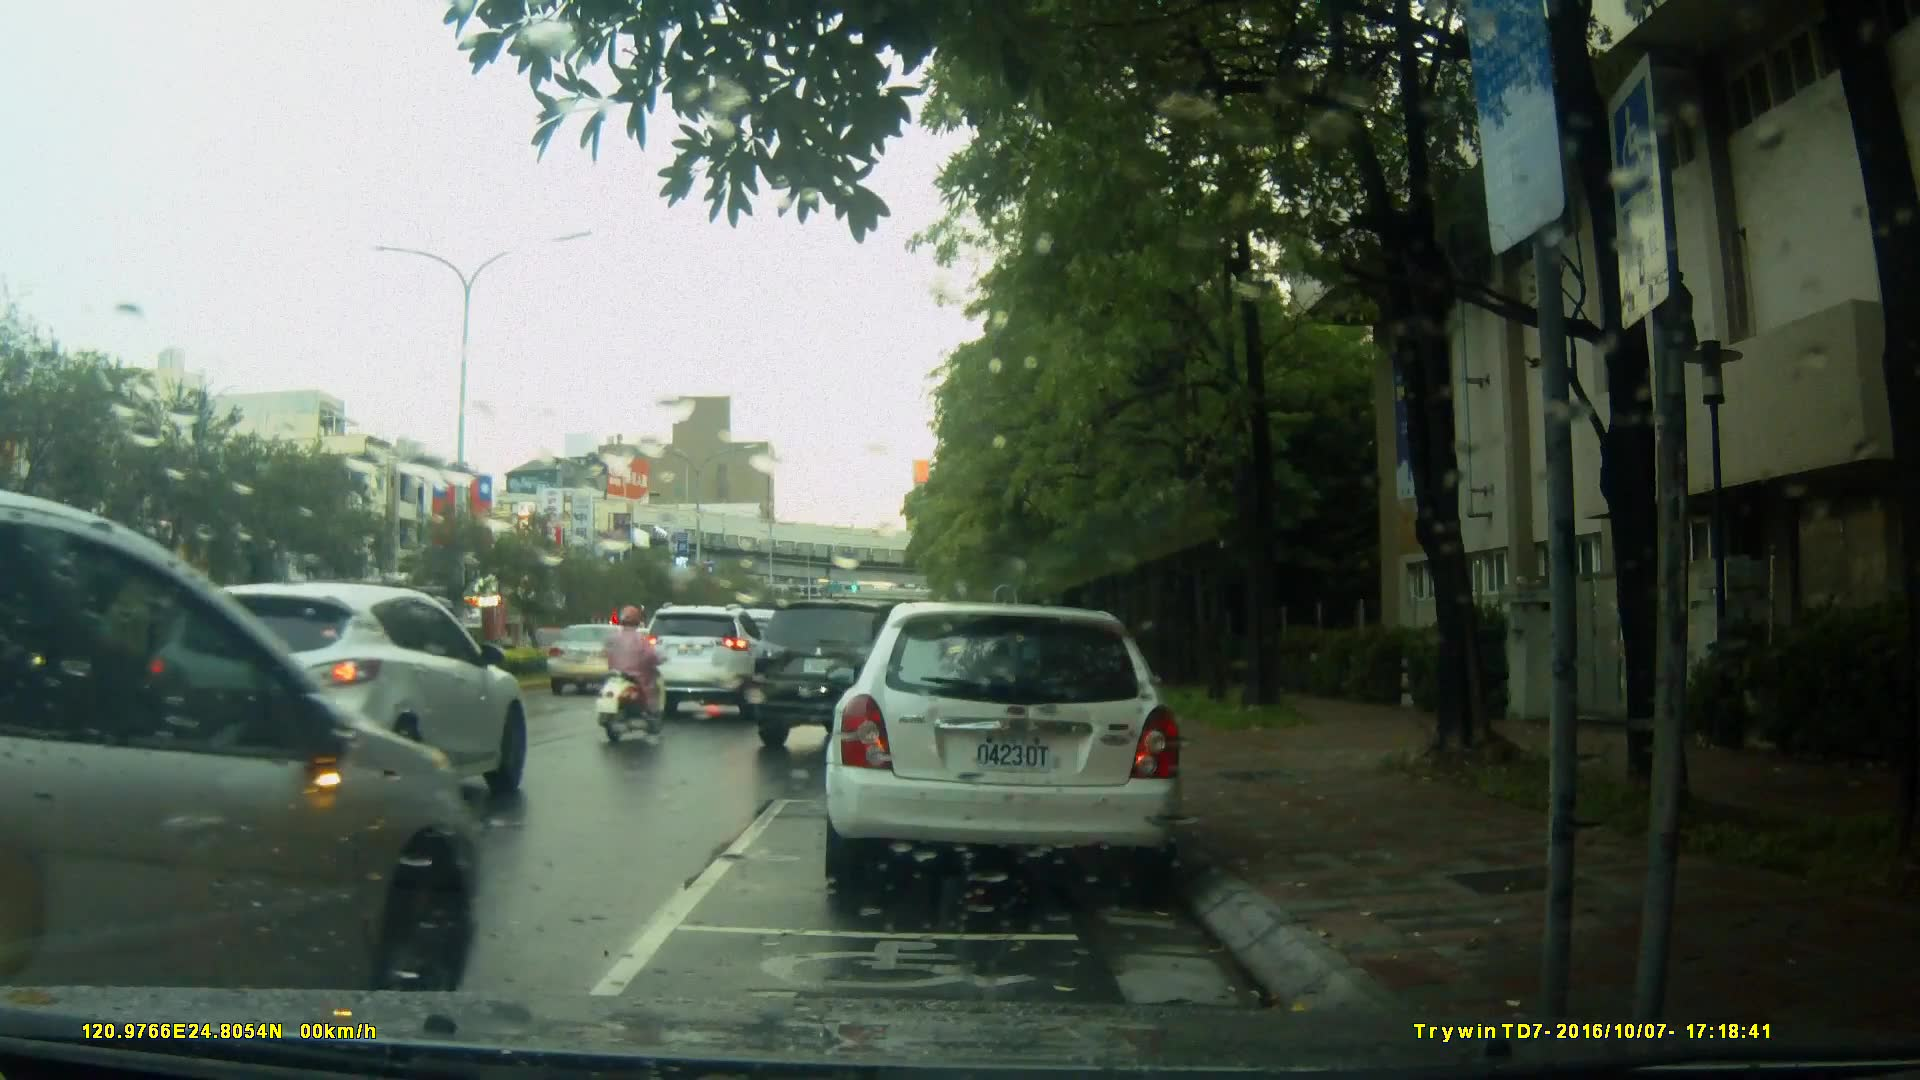rider: (600, 603, 672, 750)
vehicle: (1, 488, 487, 992), (820, 602, 1188, 898), (137, 580, 531, 815), (746, 599, 978, 755), (634, 605, 778, 722), (544, 621, 648, 696)
